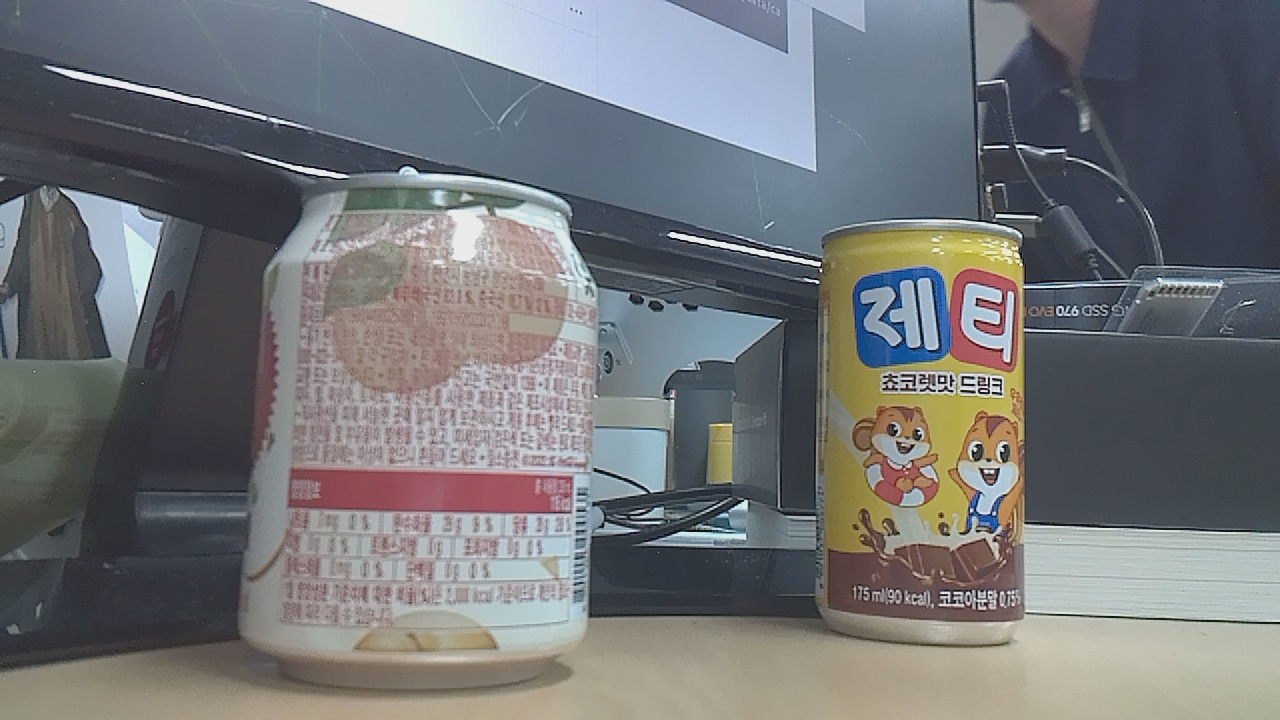IdH (pear juice): (247, 139, 618, 685)
jetty: (816, 212, 1066, 666)
